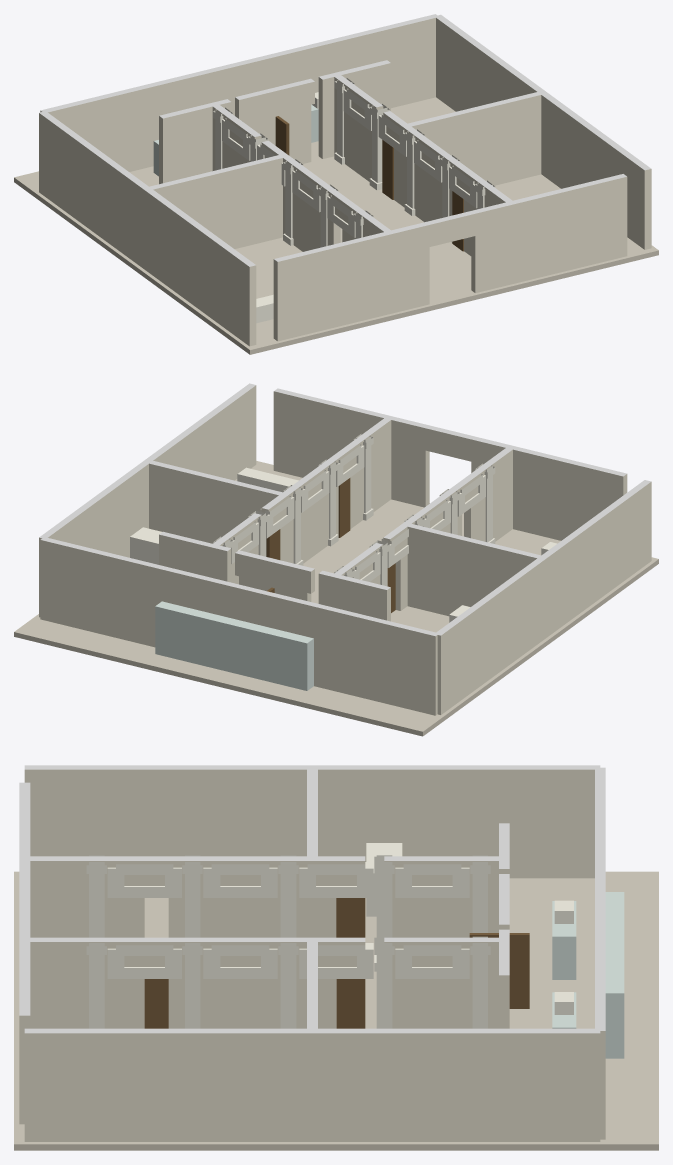
Rendered from lab_interior.glb.
3 renders of one model, top to bottom at view 1: azimuth 30°, elevation 25°; view 2: azimuth 150°, elevation 25°; view 3: azimuth 270°, elevation 25°, orthographic. The views are drawn at different scales.
Visible parts, largest first — view 1: lab_interior, w_n-col, w_e-col, w_w-col, w_s_l-col, w_s_r-col, hw_e-col, hw_w-col; view 2: lab_interior, w_n-col, w_e-col, w_w-col, w_s_r-col, w_s_l-col, hw_w-col, hw_e-col; view 3: lab_interior, w_e-col, w_n-col, w_w-col, w_s_r-col, w_s_l-col, hw_e-col, hw_w-col, cw_w2-col, cw_e2-col, cw_w3-col, cw_e3-col (+3 smaller).
Boxes of the visible parts, <box> form: lab_interior: <box>14,18,658,354</box>; w_n-col: <box>40,14,438,113</box>; w_e-col: <box>434,14,651,170</box>; w_w-col: <box>39,112,255,266</box>; w_s_l-col: <box>274,222,429,261</box>; w_s_r-col: <box>472,174,626,213</box>; hw_e-col: <box>404,91,544,126</box>; hw_w-col: <box>149,154,284,189</box>; lab_interior: <box>14,385,658,736</box>; w_n-col: <box>40,537,438,636</box>; w_e-col: <box>39,383,255,539</box>; w_w-col: <box>436,480,651,635</box>; w_s_r-col: <box>274,388,428,428</box>; w_s_l-col: <box>472,436,626,476</box>; hw_w-col: <box>405,524,544,558</box>; hw_e-col: <box>146,460,282,495</box>; lab_interior: <box>14,769,658,1150</box>; w_e-col: <box>24,1028,600,1033</box>; w_n-col: <box>595,767,605,1030</box>; w_w-col: <box>24,765,600,769</box>; w_s_r-col: <box>19,914,30,1015</box>; w_s_l-col: <box>19,782,30,883</box>; hw_e-col: <box>307,939,317,1030</box>; hw_w-col: <box>307,768,317,856</box>; cw_w2-col: <box>168,856,336,860</box>; cw_e2-col: <box>168,937,336,941</box>; cw_w3-col: <box>384,856,504,860</box>; cw_e3-col: <box>384,937,504,941</box>.
Size of the model in its own units: 26.9 by 5.3 by 26.9.
